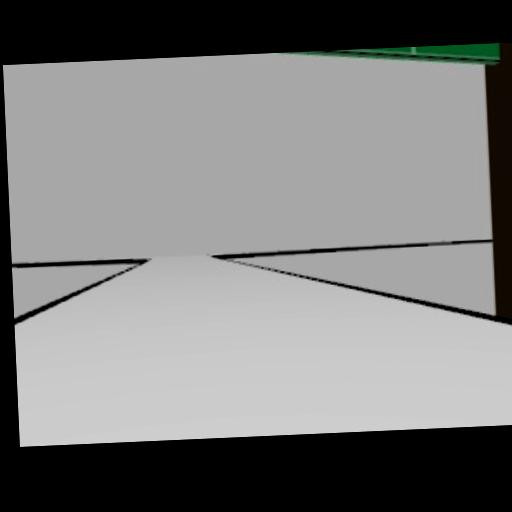Straight: (409, 47, 415, 52)
